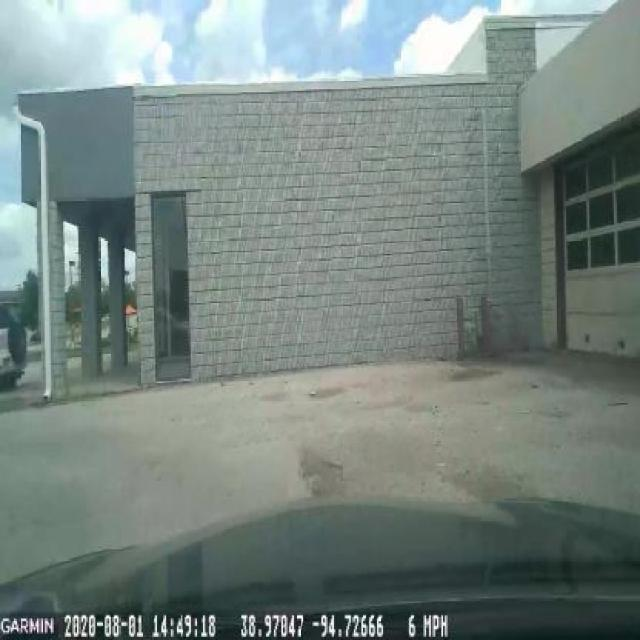pothole: (296, 440, 347, 502)
